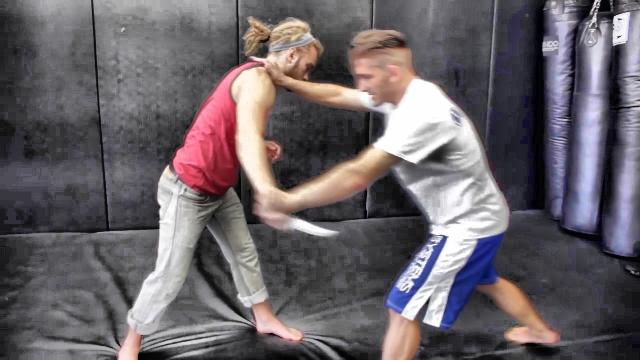knife: (247, 199, 346, 243)
